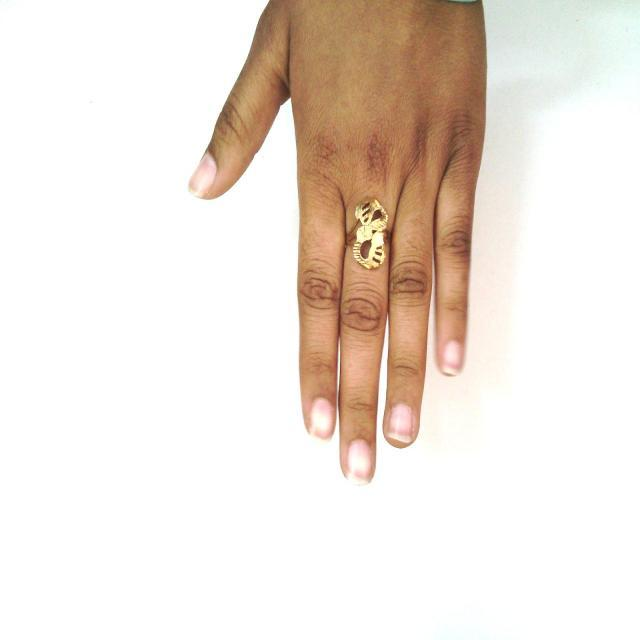Fingernail: (189, 152, 216, 195), (347, 440, 372, 483), (387, 404, 414, 441), (309, 399, 333, 438), (441, 341, 462, 374)
